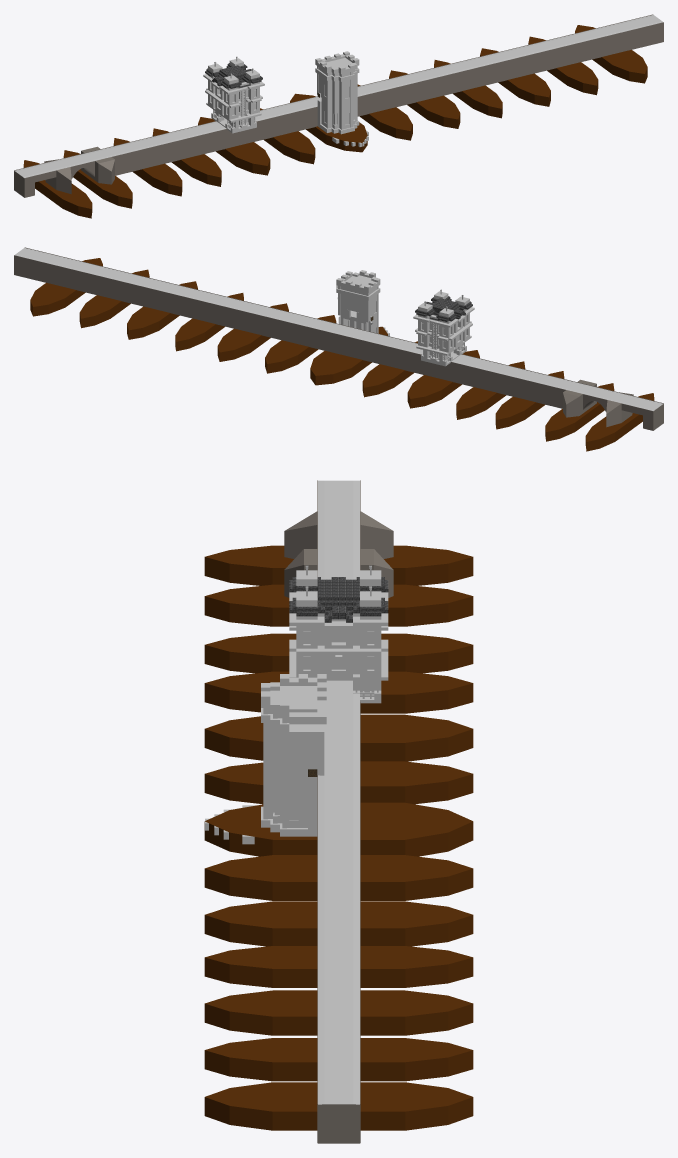
Rendered from OldLondonBridgeSmall.dae.
3 renders of one model, top to bottom at view 1: azimuth 30°, elevation 25°; view 2: azimuth 150°, elevation 25°; view 3: azimuth 270°, elevation 25°, orthographic. The views are drawn at different scales.
Parts seen in each view (by area): view 1: Cube, Plane, minecraft.001, minecraft.002; view 2: Cube, Plane, minecraft.002, minecraft.001; view 3: Plane, Cube, minecraft.002, minecraft.001.
Boxes of the visible parts, box(x1,y1,x2,y2) form: Cube: box(14, 14, 663, 197); Plane: box(23, 25, 647, 218); minecraft.001: box(315, 51, 368, 146); minecraft.002: box(203, 56, 264, 133); Cube: box(14, 247, 663, 430); Plane: box(30, 258, 654, 451); minecraft.002: box(413, 289, 474, 366); minecraft.001: box(336, 270, 389, 336); Plane: box(204, 545, 473, 1130); Cube: box(284, 480, 393, 1143); minecraft.002: box(289, 565, 388, 703); minecraft.001: box(205, 674, 326, 844).
Bounding box in the file's own units: 208 × 37.97 × 26.68.
